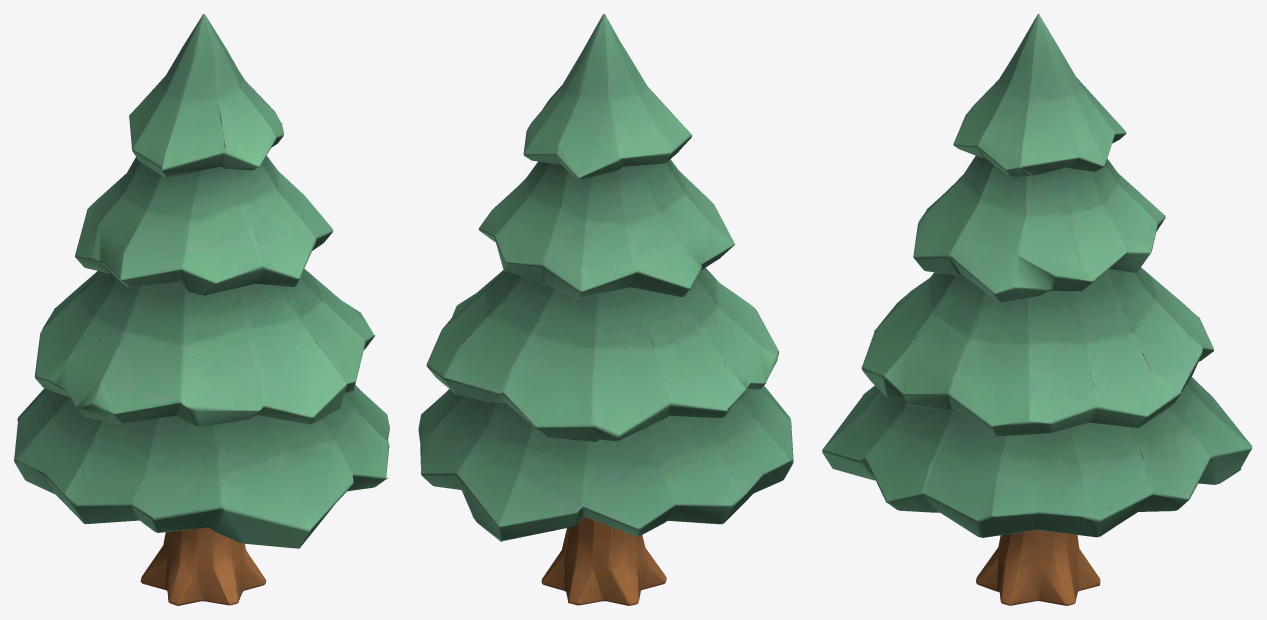
The model's file is tree.glb.
3 renders of one model, left to right at view 1: azimuth 30°, elevation 25°; view 2: azimuth 150°, elevation 25°; view 3: azimuth 270°, elevation 25°, orthographic.
Visible parts, largest first — view 1: geometry_0; view 2: geometry_0; view 3: geometry_0.
Boxes of the visible parts, left/top/right/bottom form: geometry_0: left=14, top=14, right=389, bottom=605; geometry_0: left=418, top=14, right=793, bottom=605; geometry_0: left=822, top=14, right=1252, bottom=605.
Size of the model in its own units: 0.5703 by 0.9517 by 0.6529.
Materials: 1 (1 with a texture image).
